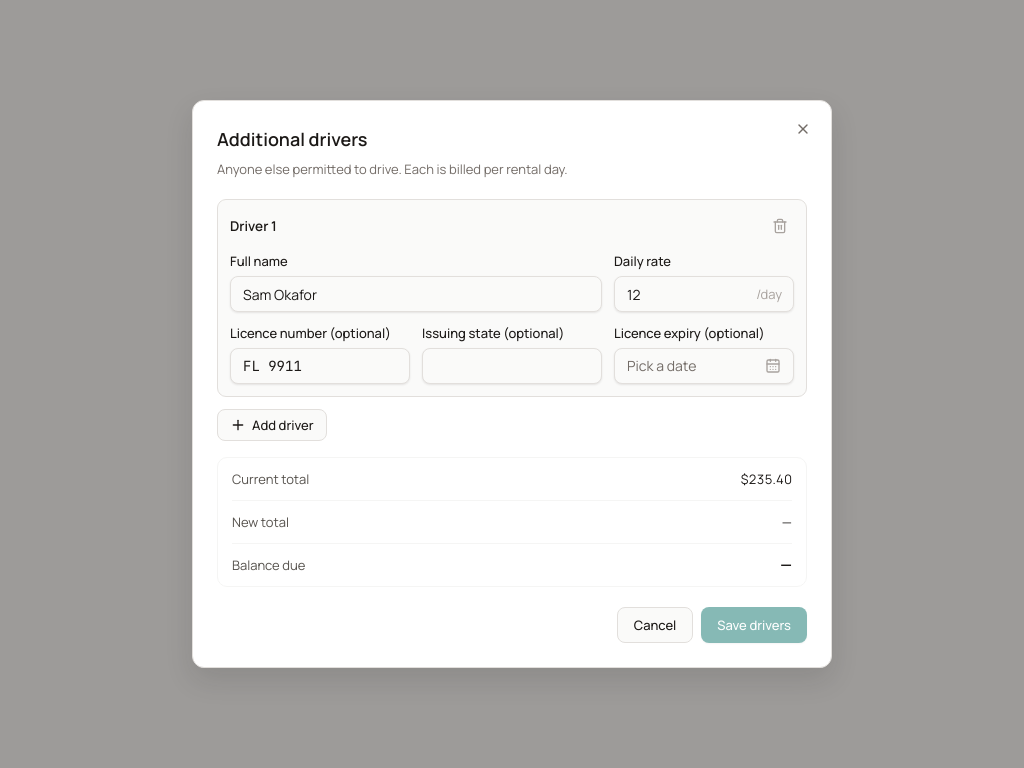
it: BookingDriversDialog › says what was wrong when the change is refused, and stays open
The image size is (1024, 768).
Click the button named "Remove driver 1". click: (780, 226)
box: [766,212,794,240]
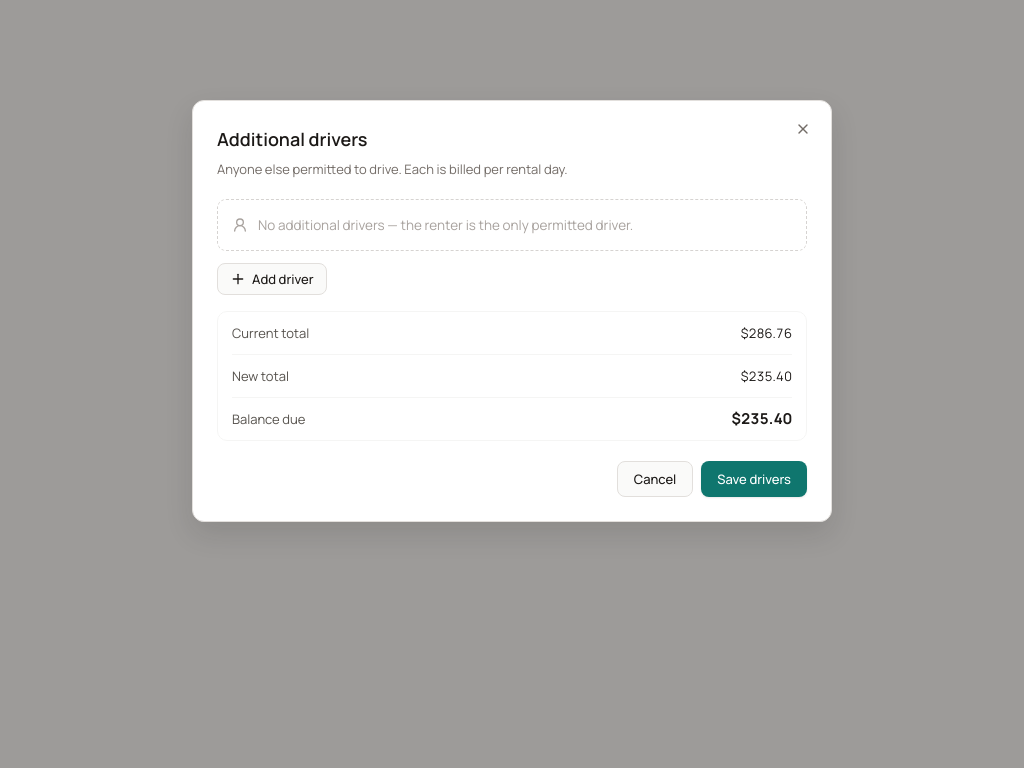
Expected: the button "Save drivers" is enabled
Click the button "Save drivers". click: (754, 479)
box: [701,461,807,497]
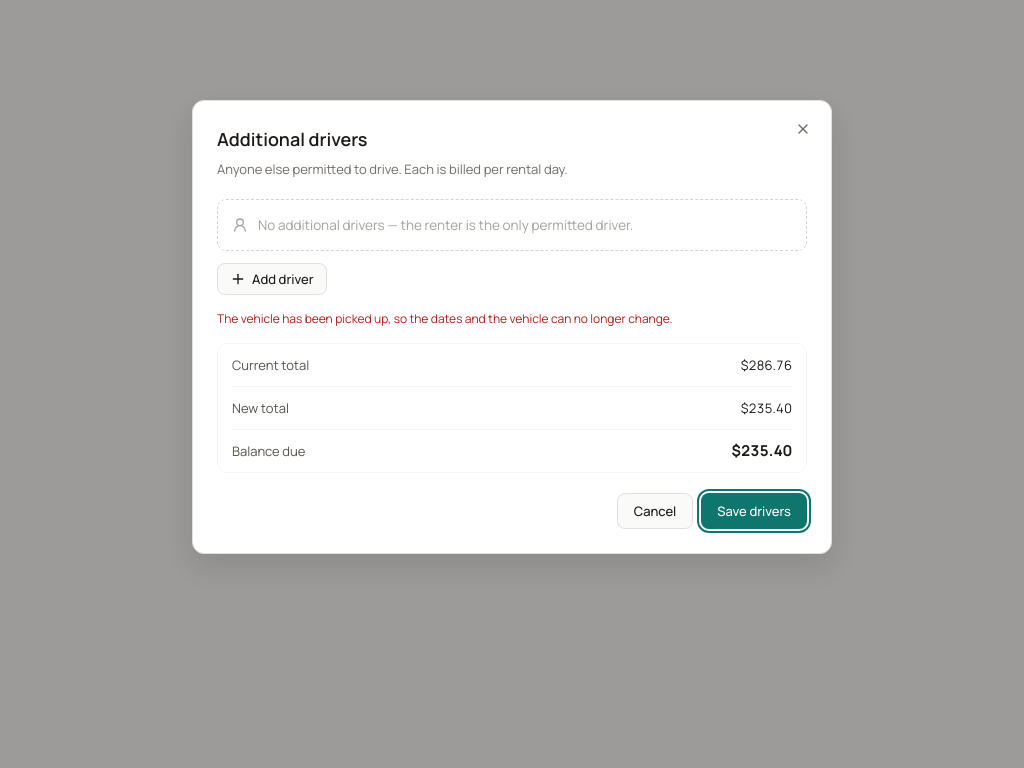
Expected: the message shows "vehicle has been picked up", [217,310,673,327]
